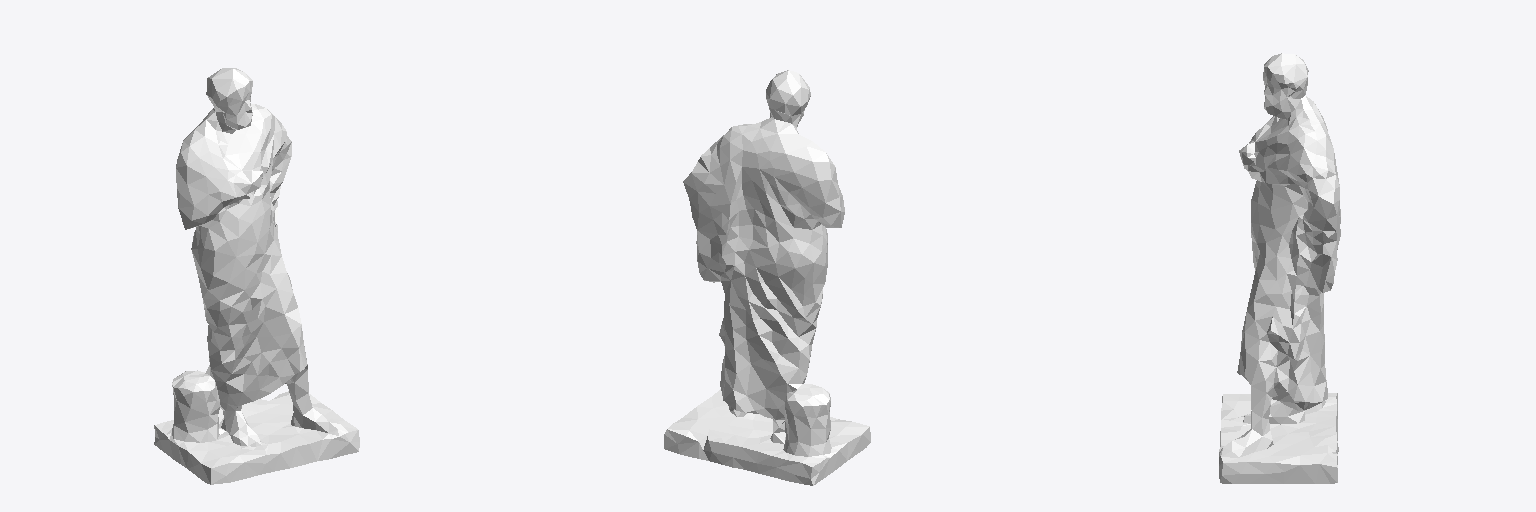
The model's file is Sophocles_low.obj.
3 renders of one model, left to right at view 1: azimuth 30°, elevation 25°; view 2: azimuth 150°, elevation 25°; view 3: azimuth 270°, elevation 25°, orthographic.
Bounding box in the file's own units: 1.03 × 2.5 × 0.7233.